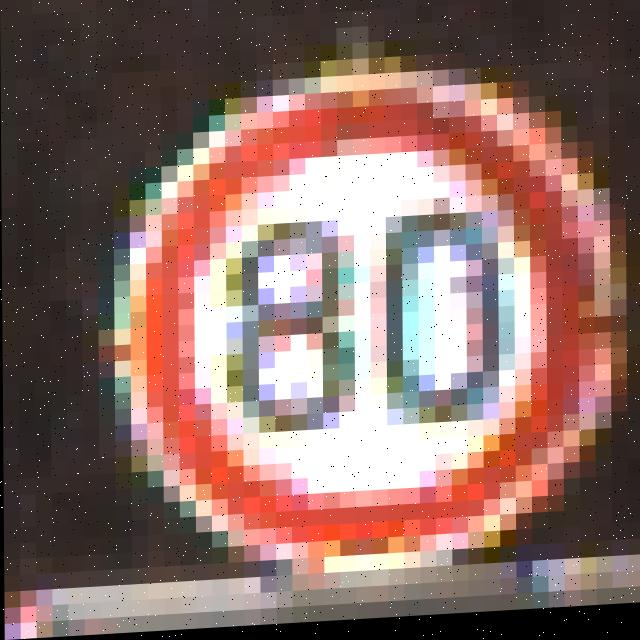speed_limit_80: (113, 74, 640, 569)
